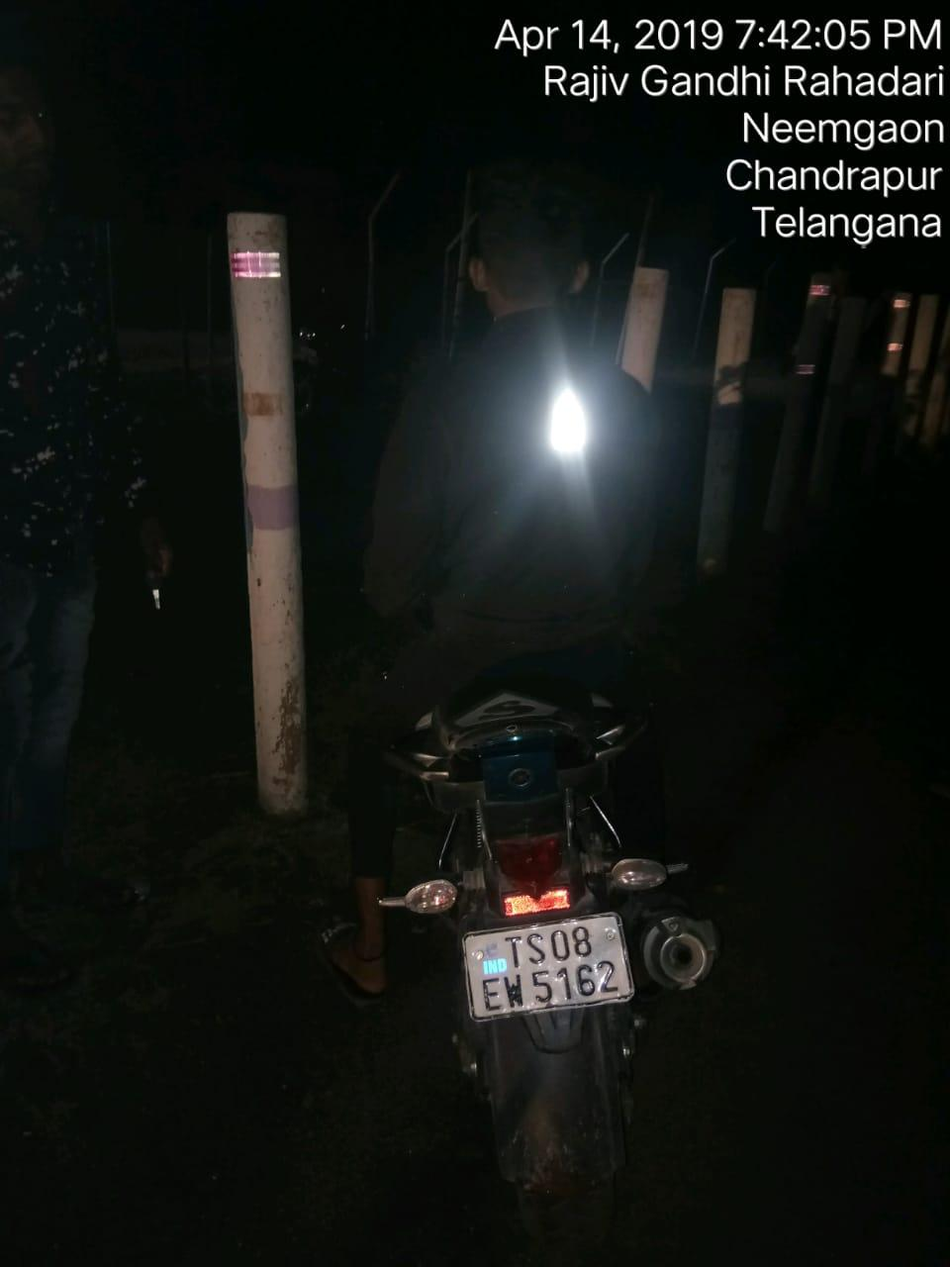plate: (430, 905, 670, 1027)
